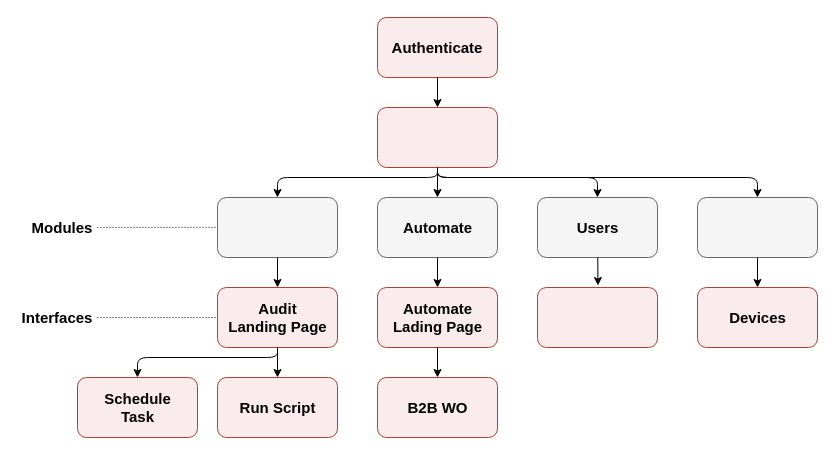
This 835x455 diagram has some shape labels left out. The centre of each missing label's shape, as x and y in pixels:
Audit: the point at 277,227
Configuration: the point at 757,227
Landing Page: the point at 437,137
User Management: the point at 597,317
